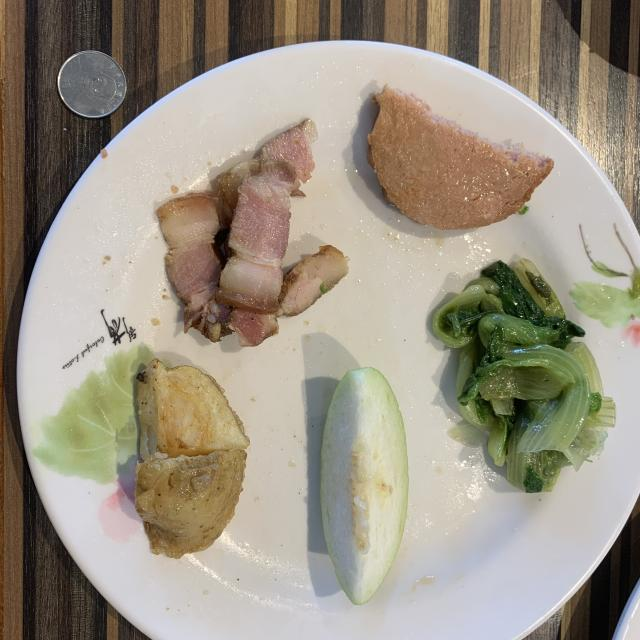Spam: (368, 86, 554, 230)
coin: (58, 51, 126, 118)
fried potato: (135, 359, 249, 559)
grilled pork: (158, 119, 349, 346)
guava -sliced-: (320, 368, 409, 605)
mustard greens: (432, 259, 615, 492)
